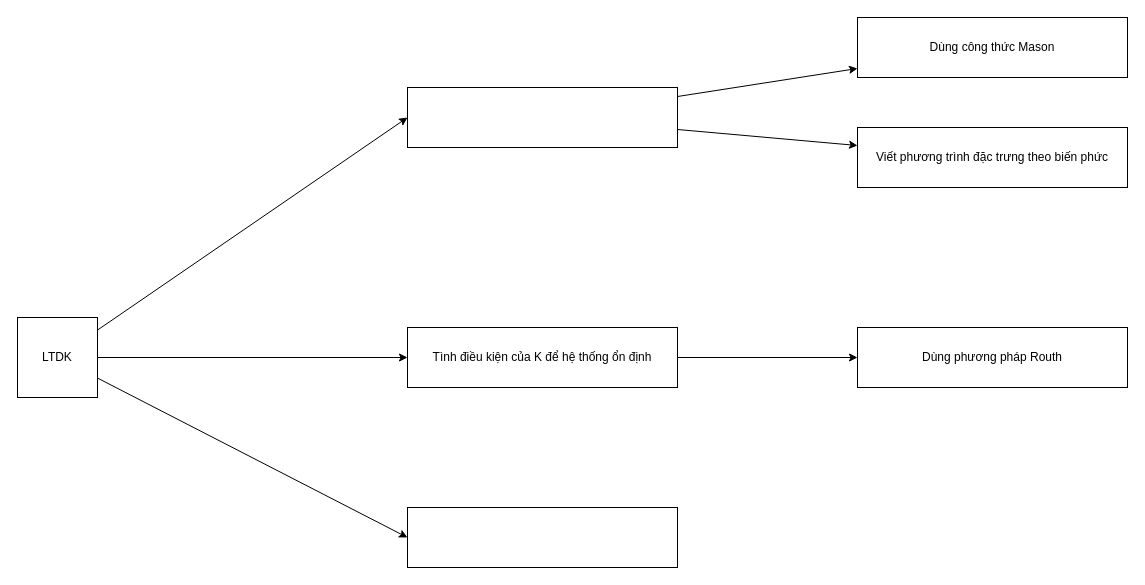
Image size: 1145x585. Some labels were removed from this diagram. Each missing label, with the centre of its shape:
Thiết kế bộ điều kiển G e (s): the point at 542,537
Tìm hàm truyền từ sơ đồ khối: the point at 542,117
